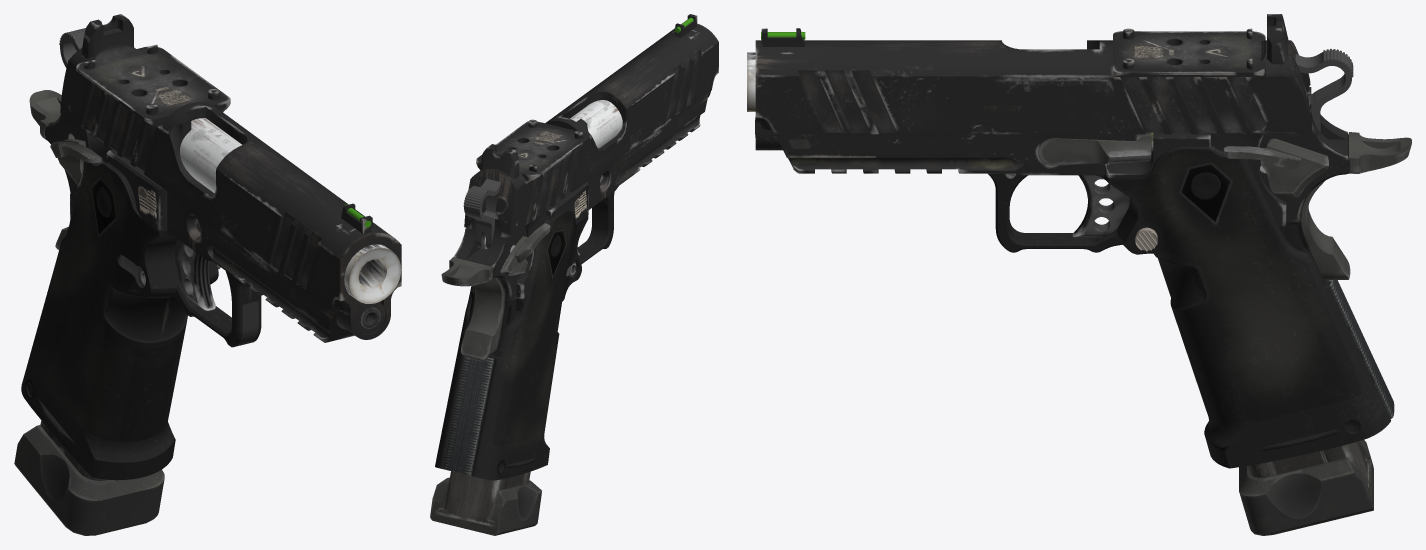
The model's file is springfield_prodigy_1911.glb.
3 renders of one model, left to right at view 1: azimuth 30°, elevation 25°; view 2: azimuth 150°, elevation 25°; view 3: azimuth 270°, elevation 25°, orthographic. The views are drawn at different scales.
Visible parts, largest first — view 1: Stable Part, Slide, Magazine, Muzle, Trigger, Hammer; view 2: Stable Part, Slide, Magazine, Hammer, Muzle; view 3: Stable Part, Slide, Magazine, Trigger, Hammer.
Boxes of the visible parts, x1,y1,x2,y2 form: Stable Part: (21, 90, 380, 480); Slide: (60, 14, 401, 339); Magazine: (14, 420, 164, 535); Muzle: (180, 118, 401, 303); Trigger: (174, 240, 215, 310); Hammer: (59, 28, 85, 67); Stable Part: (435, 93, 708, 480); Slide: (464, 14, 718, 238); Magazine: (430, 298, 541, 535); Hammer: (463, 179, 500, 249); Muzle: (570, 100, 622, 148); Stable Part: (755, 87, 1411, 468); Slide: (755, 14, 1313, 150); Magazine: (1135, 132, 1373, 535); Trigger: (1072, 175, 1133, 237); Hammer: (1295, 48, 1353, 131).
Size of the model in its own units: 0.0394 by 0.2069 by 0.2505.
2 materials, 2 textured.
